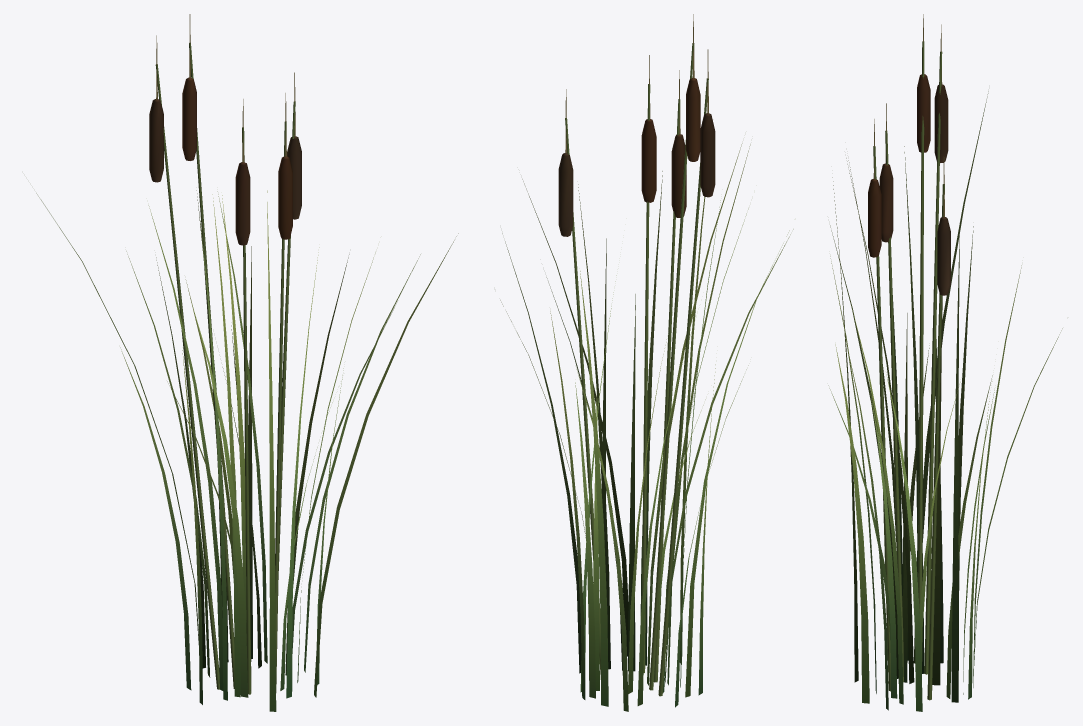
File: reeds-cattail-a.lod0.glb
3 views of the same model, side by side, from view 1: azimuth 30°, elevation 25°; view 2: azimuth 150°, elevation 25°; view 3: azimuth 270°, elevation 25° (orthographic). The views are drawn at different scales.
Visible parts, largest first — view 1: reeds-cattail-a.lod0; view 2: reeds-cattail-a.lod0; view 3: reeds-cattail-a.lod0.
Boxes of the visible parts, box(x1,y1,x2,y2) form: reeds-cattail-a.lod0: box(36, 14, 458, 711); reeds-cattail-a.lod0: box(500, 14, 793, 711); reeds-cattail-a.lod0: box(828, 14, 1062, 711).
Size of the model in its own units: 1.05 by 1.89 by 0.6406.
